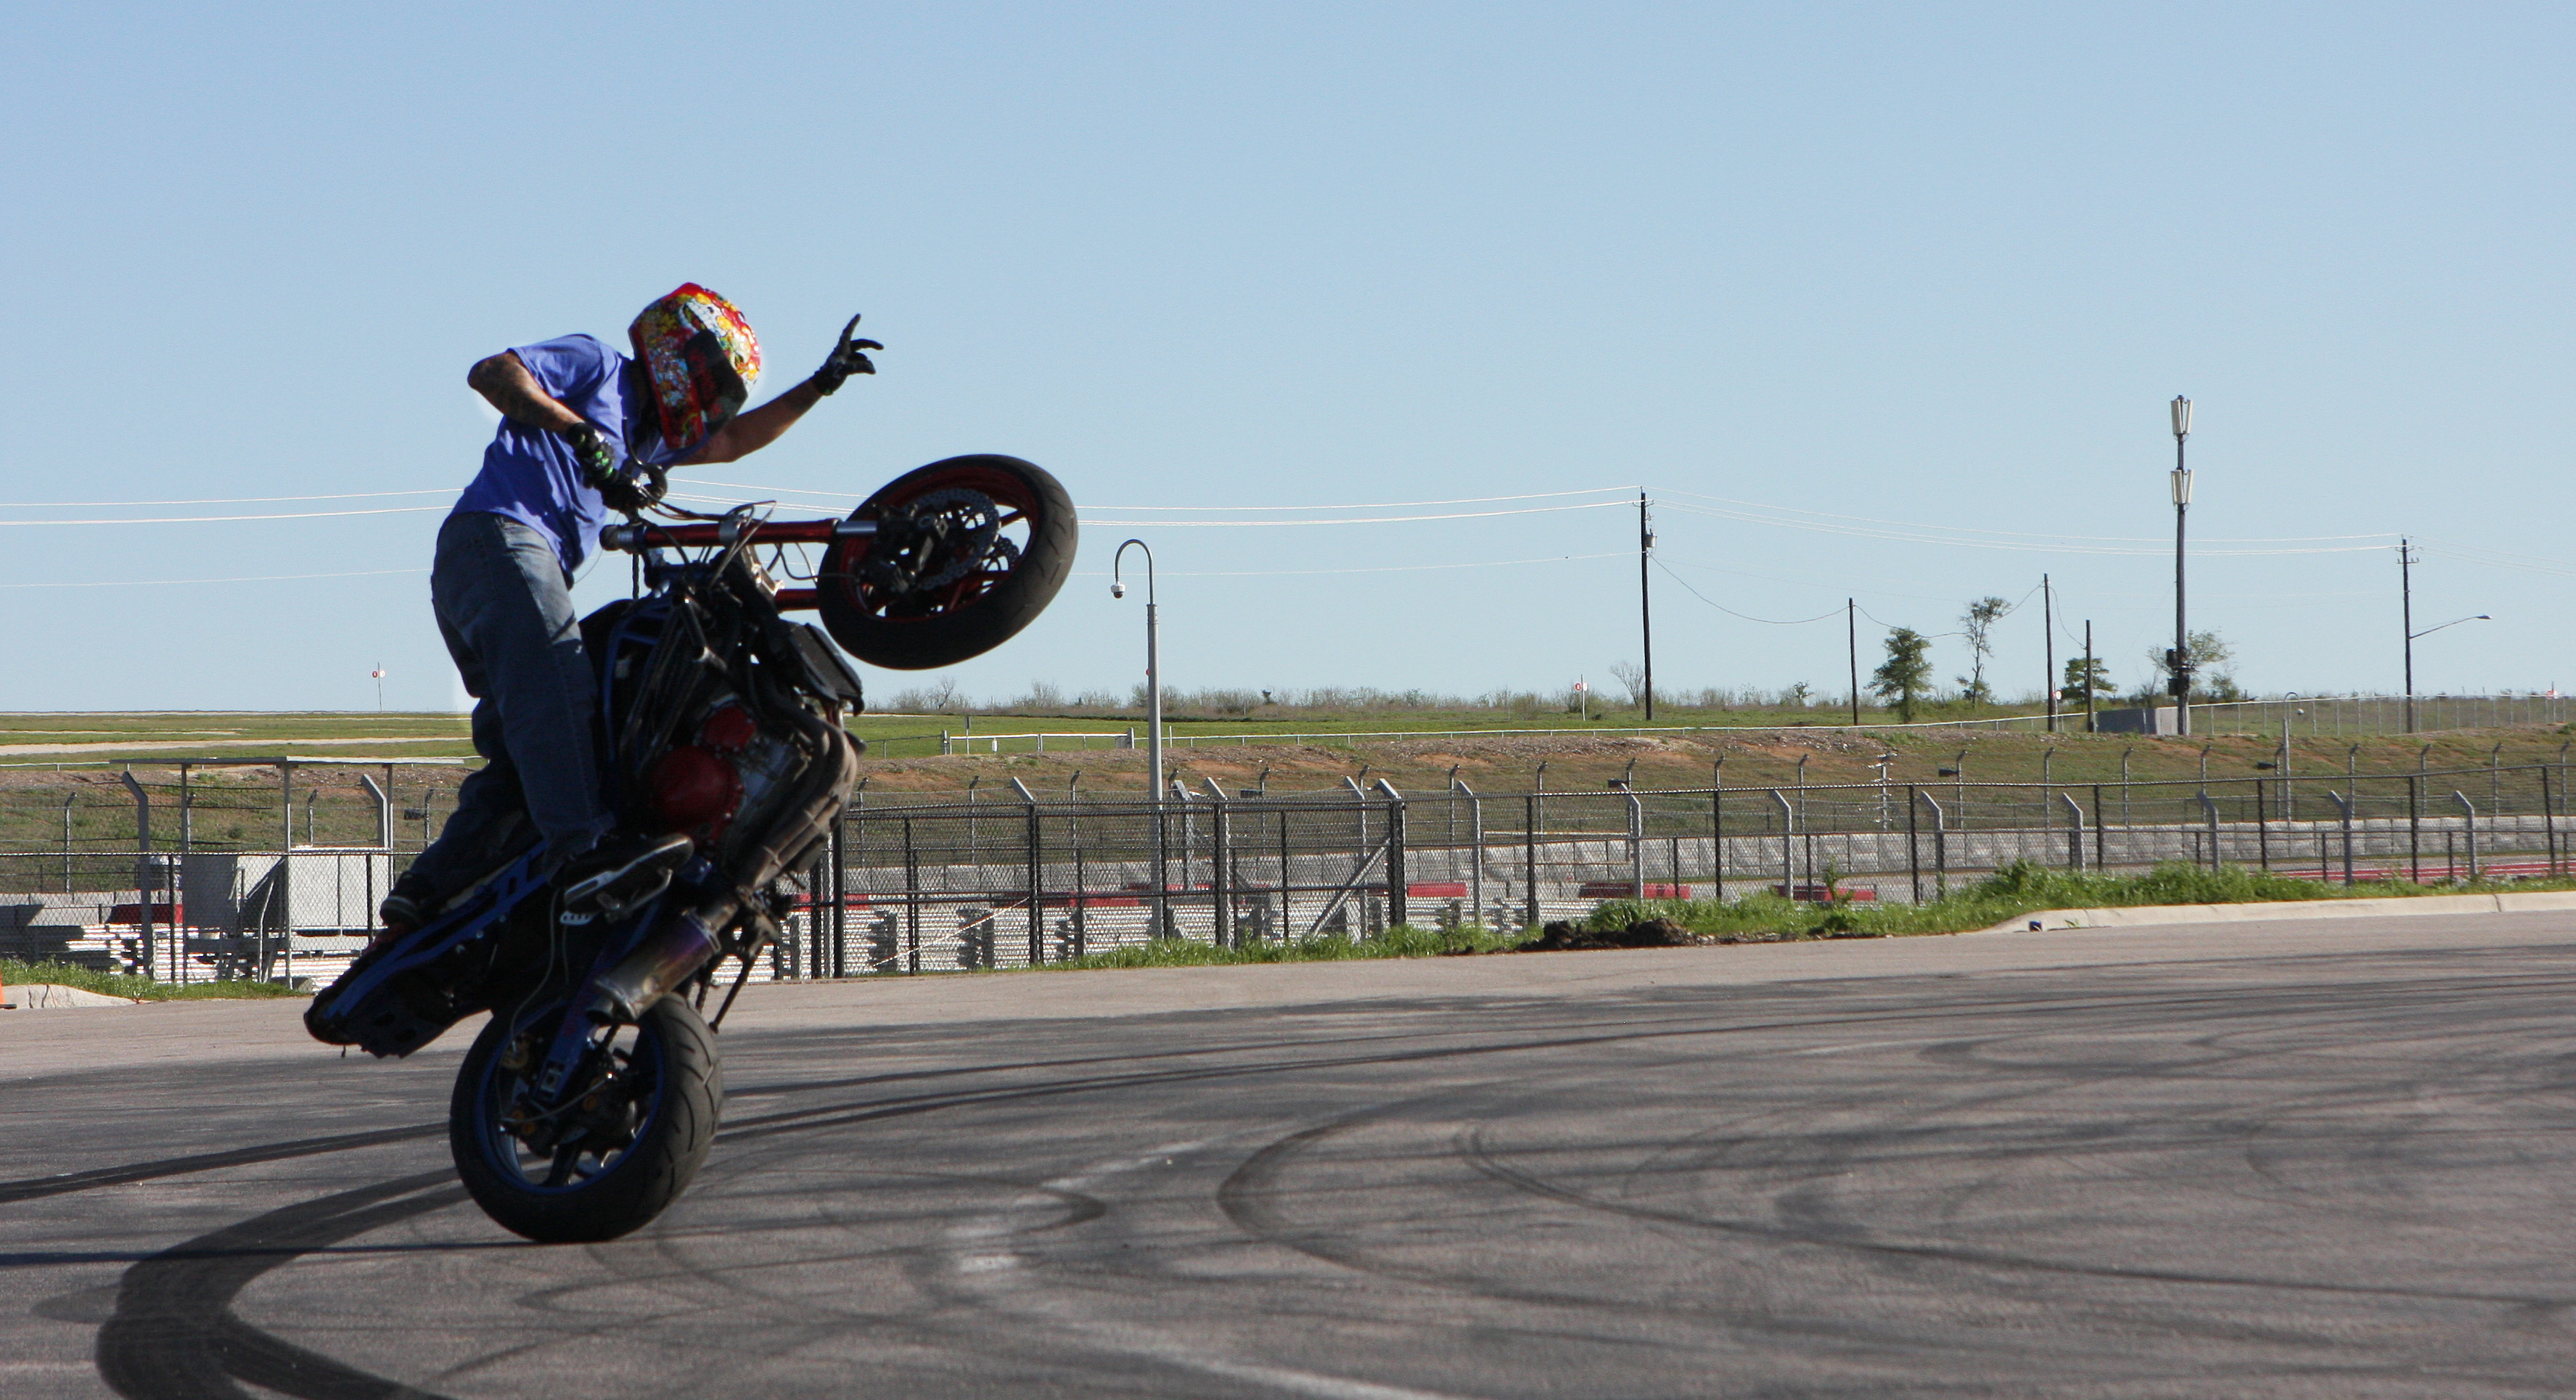helmet: (447, 212, 1047, 1086)
